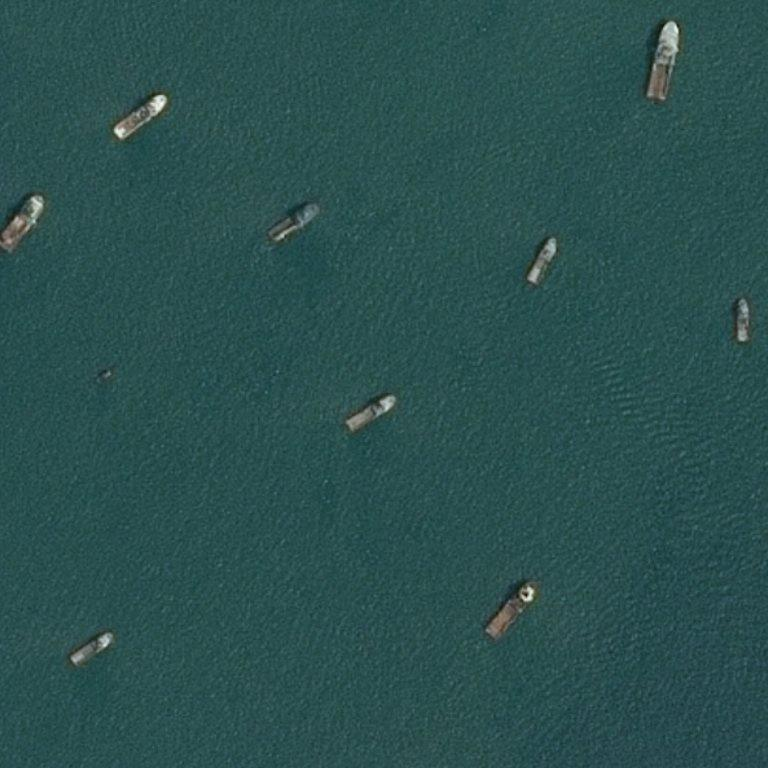ship: (483, 580, 540, 642), (34, 15, 92, 65), (0, 192, 46, 255), (266, 200, 322, 244), (343, 393, 398, 437), (525, 236, 558, 288), (0, 631, 31, 673), (736, 289, 751, 337), (22, 366, 41, 382), (643, 59, 682, 64), (659, 96, 668, 101), (646, 77, 652, 83), (74, 663, 79, 670), (161, 94, 168, 99), (5, 18, 12, 23), (351, 429, 356, 434), (38, 194, 43, 199), (534, 49, 538, 55), (668, 19, 676, 22), (314, 203, 320, 207), (116, 137, 124, 140), (112, 126, 116, 132), (485, 612, 488, 619), (392, 394, 397, 398), (747, 337, 751, 342), (70, 655, 73, 660), (109, 633, 114, 636), (526, 275, 529, 280), (266, 230, 271, 233), (739, 298, 746, 300), (0, 235, 2, 242), (534, 581, 537, 585), (345, 421, 348, 425), (737, 337, 740, 341), (552, 238, 556, 240), (109, 370, 113, 372), (43, 7, 48, 8), (493, 616, 500, 616), (82, 379, 82, 380), (101, 375, 101, 375)
